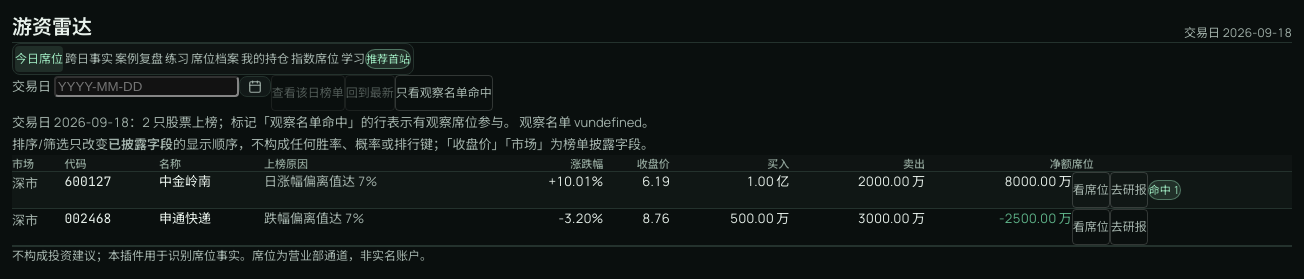
Test: YouziPage · 今日席位交互（U01/U02/U04/U07） › ★ U04：「只看观察名单命中」筛选后行数收敛；表头排序不改变任何数值本身
Click the button "净额".
click(998, 163)  # box top-left (925, 155), bottom-right (1072, 172)
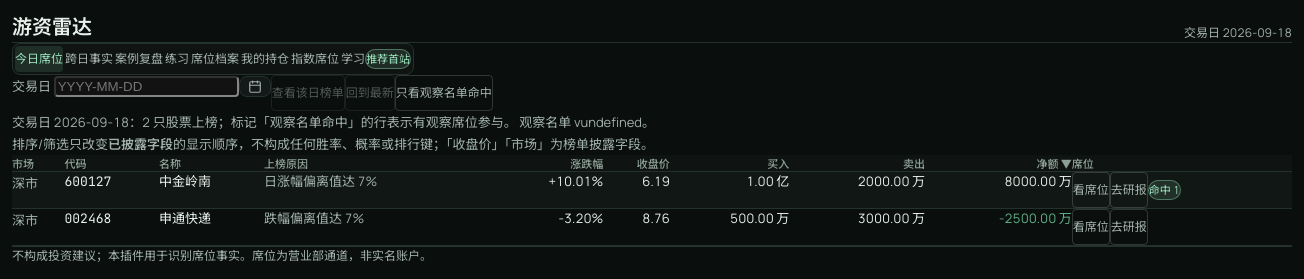
// 筛选：只看观察命中 → 只剩 600127 一行。
Click the button "只看观察名单命中".
click(444, 93)  # box top-left (395, 75), bottom-right (493, 111)
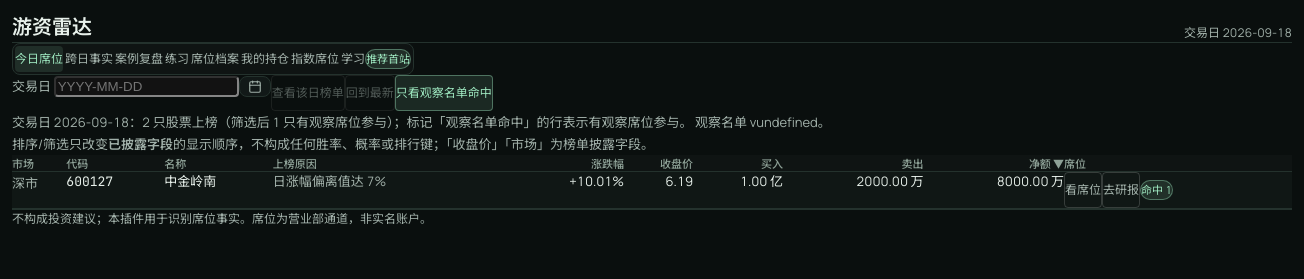
Now the text "002468" is gone
